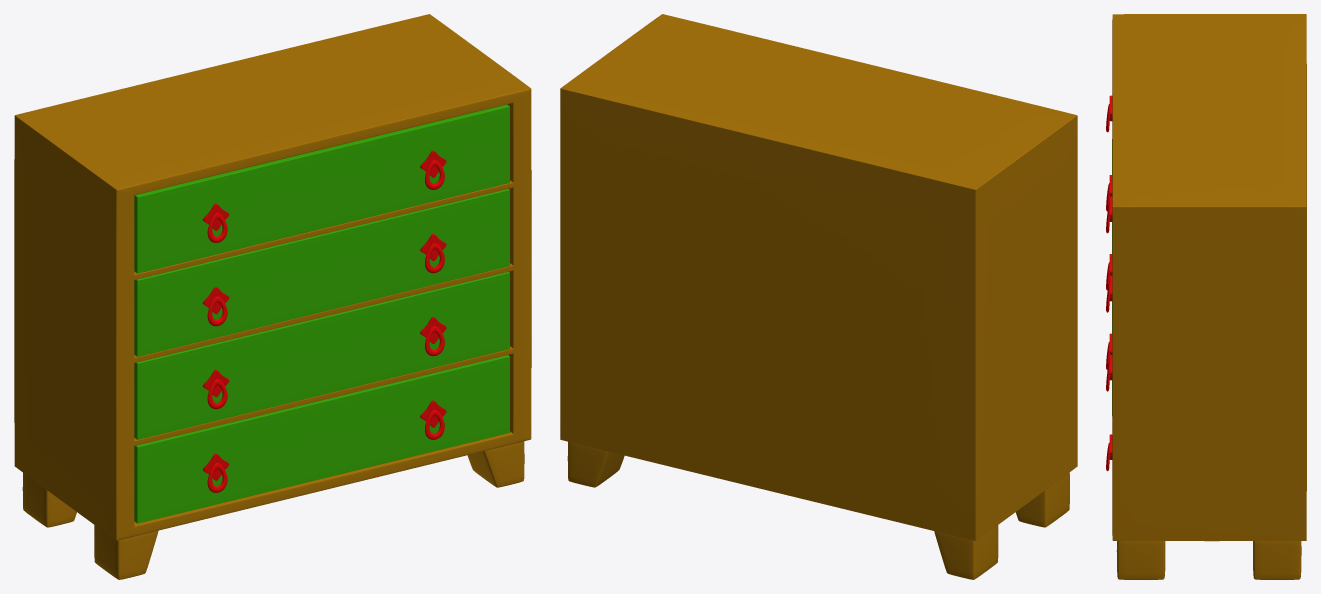
File: INTE_ComodaVisitas.fbx
3 views of the same model, side by side, from view 1: azimuth 30°, elevation 25°; view 2: azimuth 150°, elevation 25°; view 3: azimuth 270°, elevation 25° (orthographic). The views are drawn at different scales.
Parts seen in each view (by area): view 1: Gaveta (×4), Comoda, Puxadores (×4); view 2: Comoda; view 3: Comoda, Puxadores (×4).
Part boxes in pixels (<box>): Gaveta (×4): <box>134,104,509,523</box>; Comoda: <box>14,14,531,579</box>; Puxadores (×4): <box>203,150,446,492</box>; Comoda: <box>560,14,1077,579</box>; Comoda: <box>1112,14,1306,579</box>; Puxadores (×4): <box>1106,95,1112,471</box>.
Bounding box in the file's own units: 9.4 × 8.54 × 4.13.
